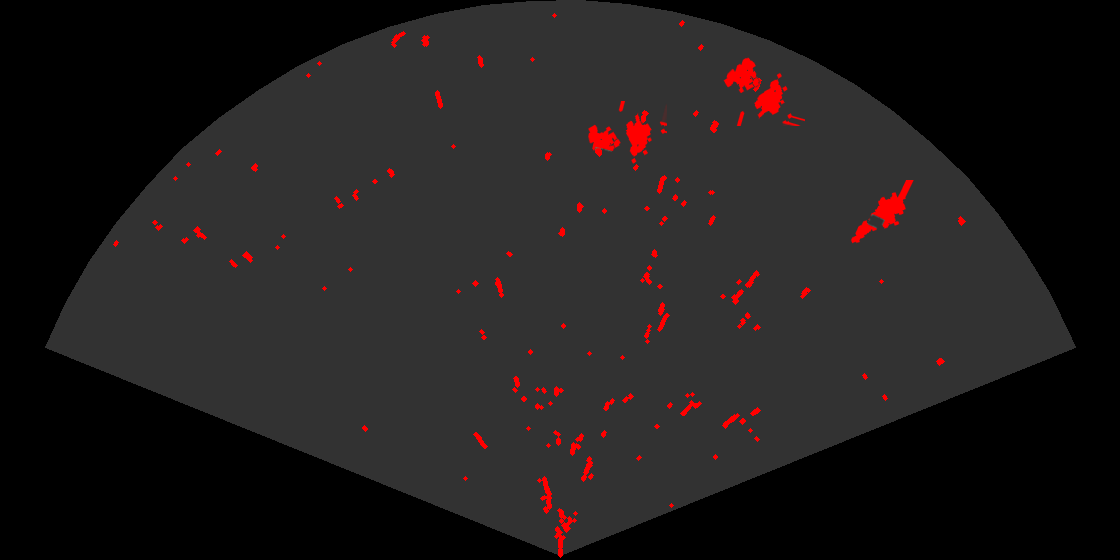cage: (722, 56, 805, 126), (586, 101, 667, 165)
frogman: (849, 180, 915, 245)
